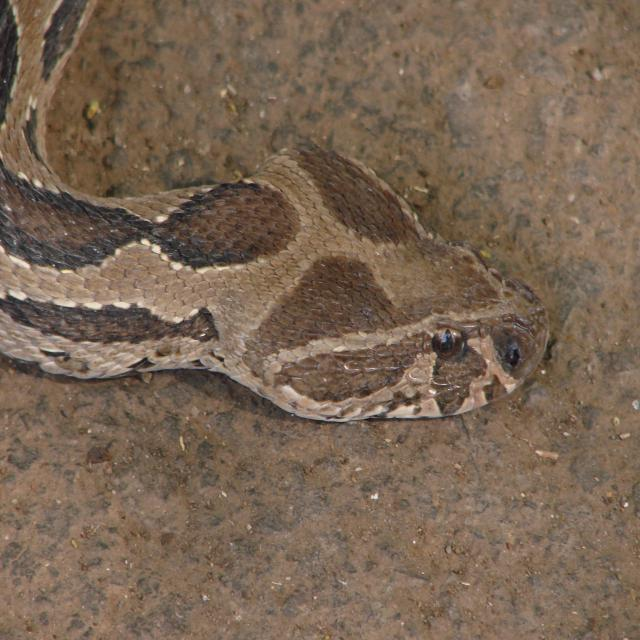Snake: (0, 0, 558, 422)
